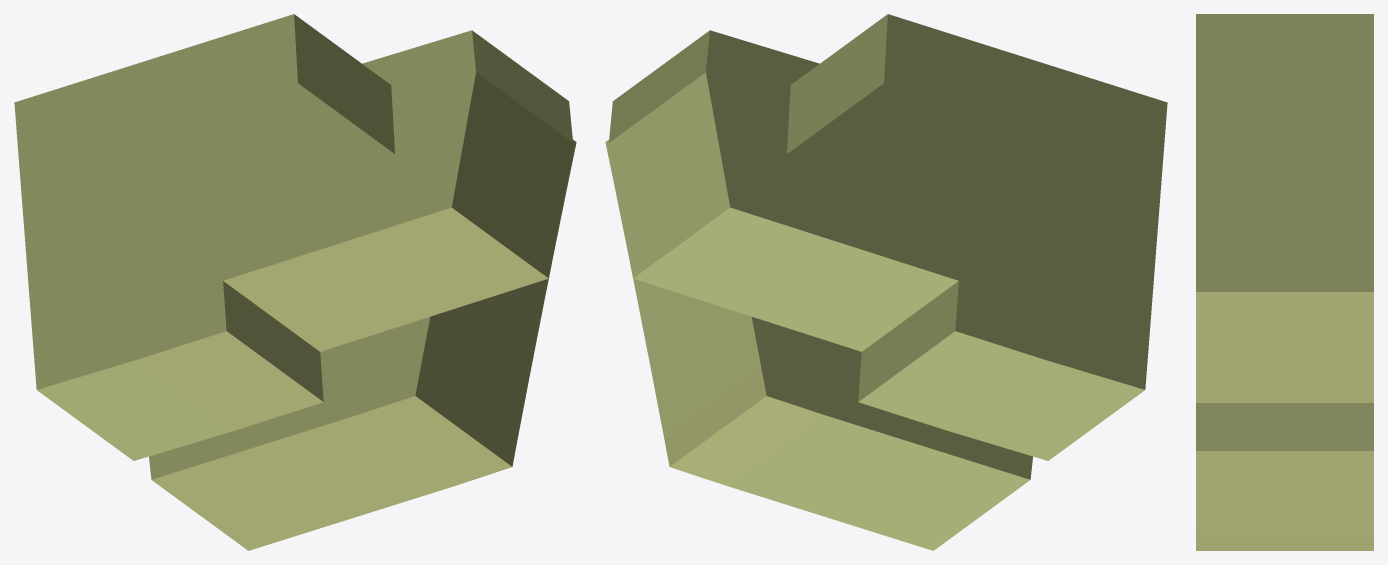
3 renders of one model, left to right at view 1: azimuth 30°, elevation 25°; view 2: azimuth 150°, elevation 25°; view 3: azimuth 270°, elevation 25°, orthographic. The views are drawn at different scales.
Parts seen in each view (by area): view 1: 0_3_2_2_3_1_2_3; view 2: 0_3_2_2_3_1_2_3; view 3: 0_3_2_2_3_1_2_3.
Part boxes in pixels (box(x1,y1,x2,y2)): 0_3_2_2_3_1_2_3: box(14, 14, 576, 550); 0_3_2_2_3_1_2_3: box(605, 14, 1167, 550); 0_3_2_2_3_1_2_3: box(1196, 14, 1373, 550).
Size of the model in its own units: 16.59 by 14.69 by 6.
